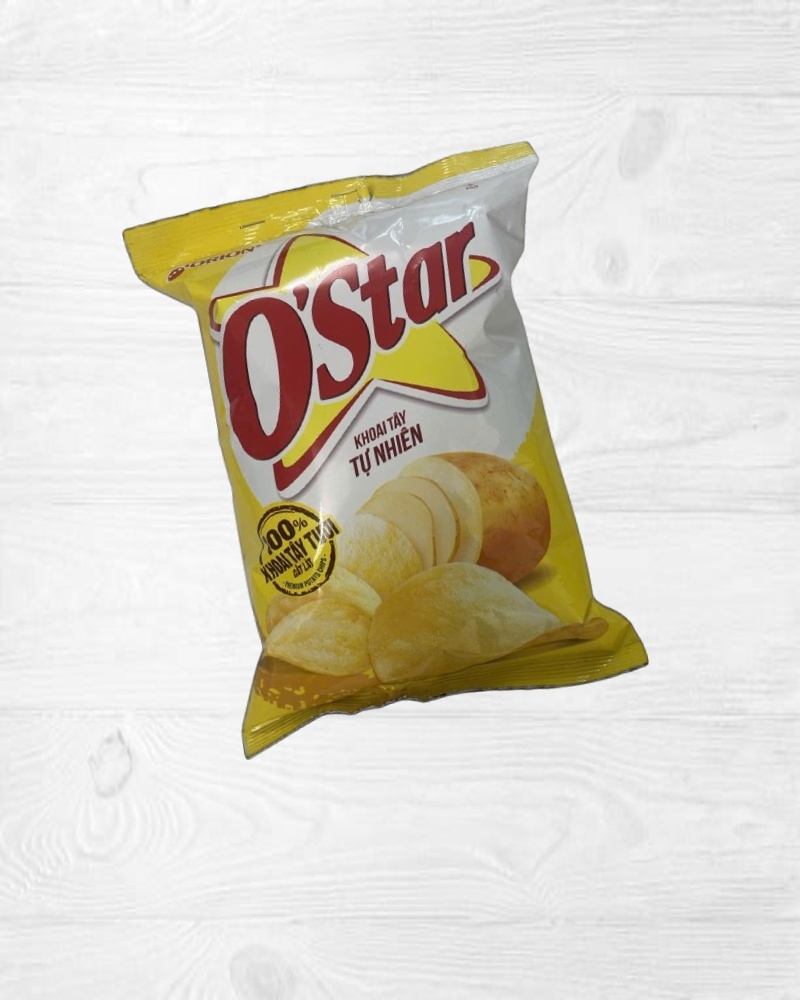O'star: (121, 136, 653, 765)
